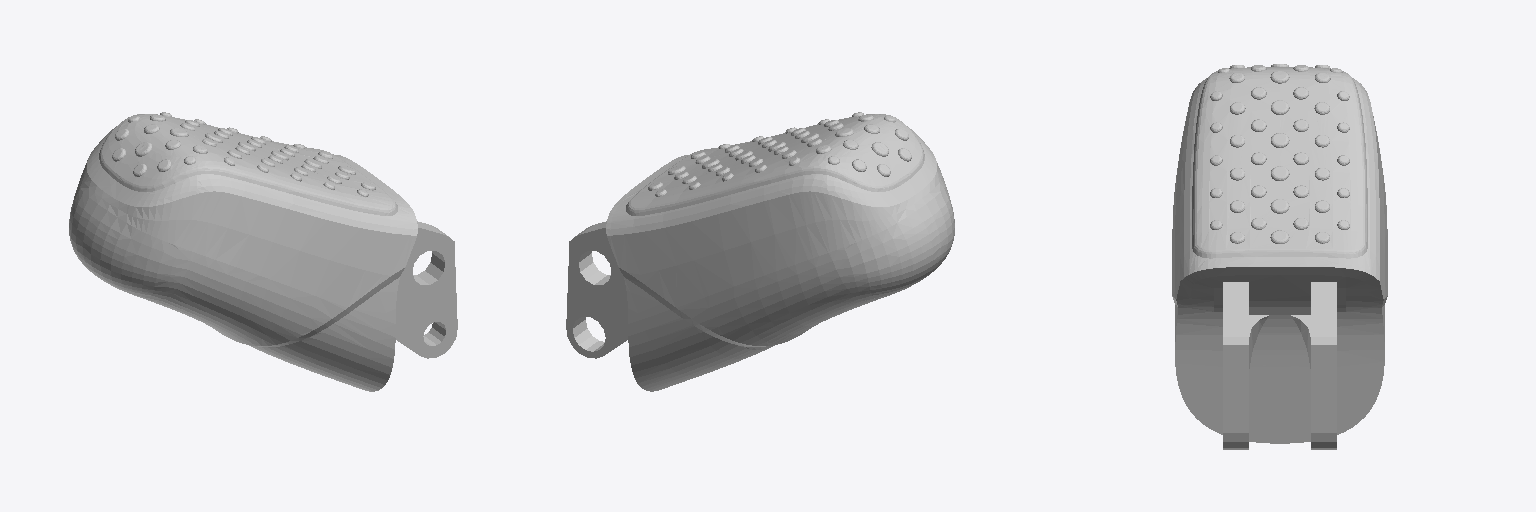
Rendered from left_thumb_4_collisions.obj.
3 views of the same model, side by side, from view 1: azimuth 30°, elevation 25°; view 2: azimuth 150°, elevation 25°; view 3: azimuth 270°, elevation 25° (orthographic).
Bounding box in the file's own units: 0.0377 × 0.0301 × 0.0204.